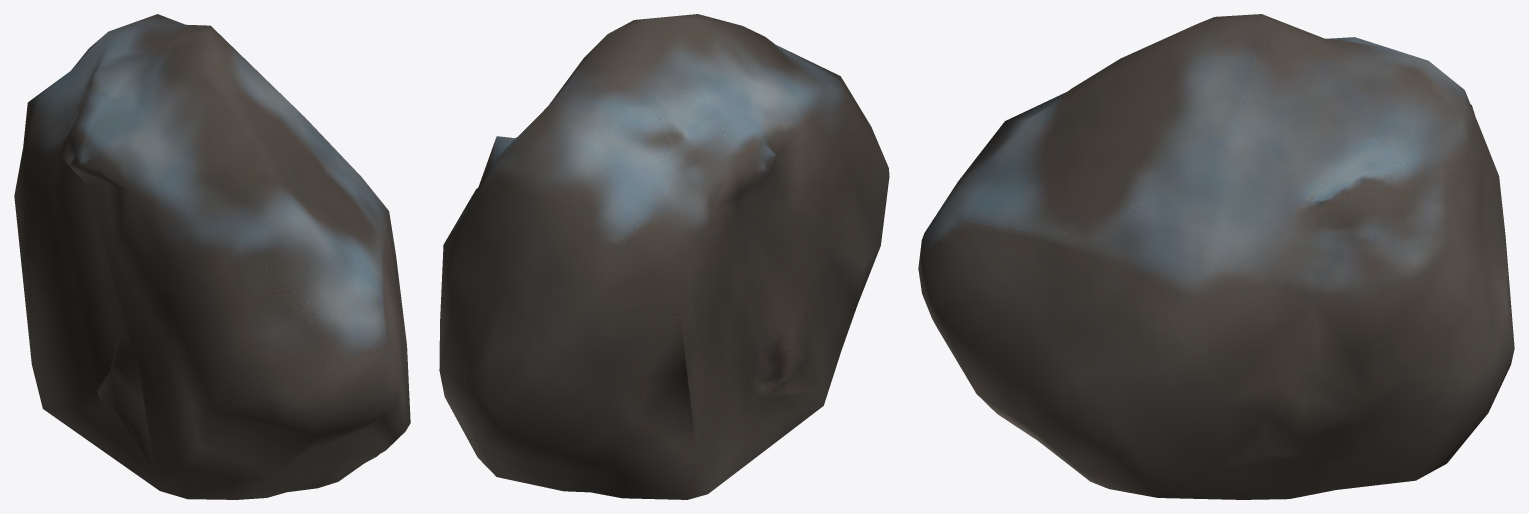
The model's file is SM_Rock_Edge_3.glb.
3 renders of one model, left to right at view 1: azimuth 30°, elevation 25°; view 2: azimuth 150°, elevation 25°; view 3: azimuth 270°, elevation 25°, orthographic. The views are drawn at different scales.
Parts seen in each view (by area): view 1: SM_Rock_Edge_3; view 2: SM_Rock_Edge_3; view 3: SM_Rock_Edge_3.
Part boxes in pixels (x1,y1,x2,y2): SM_Rock_Edge_3: (14, 14, 410, 499); SM_Rock_Edge_3: (439, 14, 889, 499); SM_Rock_Edge_3: (918, 14, 1514, 499).
Bounding box in the file's own units: 0.3681 × 0.4729 × 0.6135.
1 material, 1 textured.
